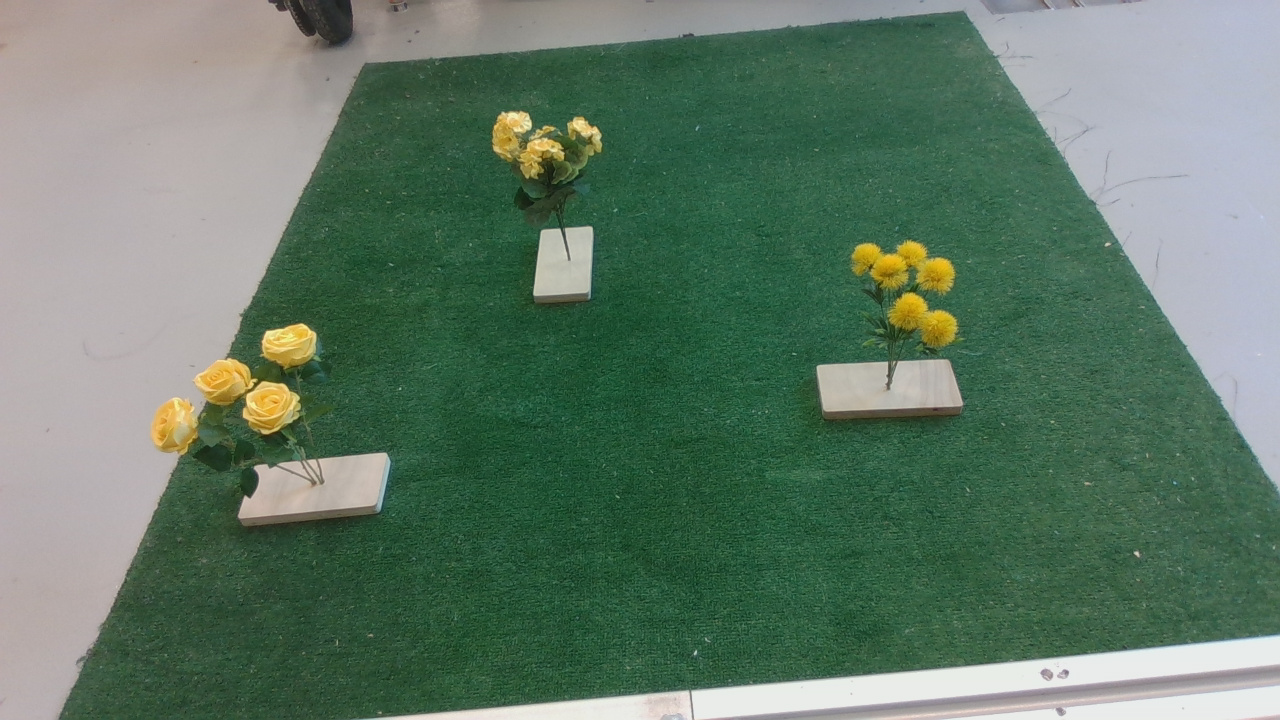dandelion: (848, 230, 970, 363)
geranium: (478, 96, 613, 226)
rose: (150, 318, 344, 507)
